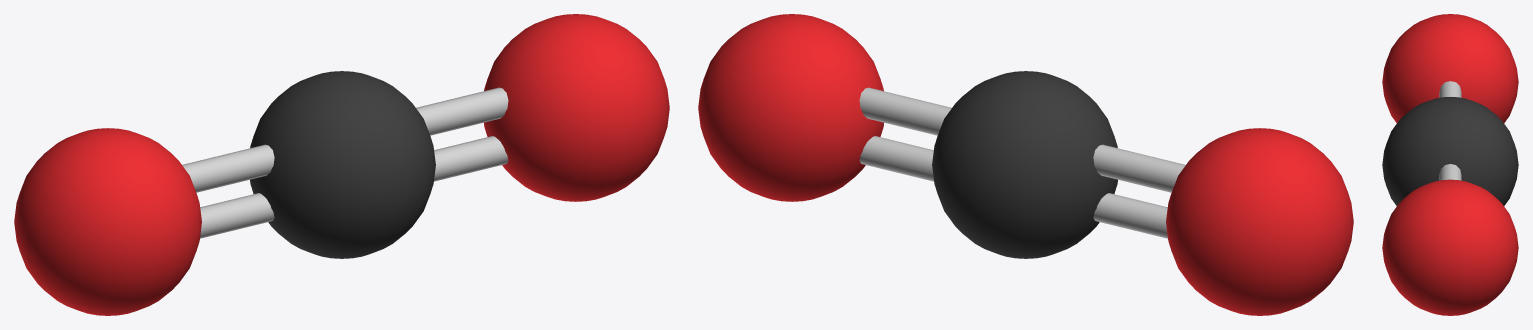
3 views of the same model, side by side, from view 1: azimuth 30°, elevation 25°; view 2: azimuth 150°, elevation 25°; view 3: azimuth 270°, elevation 25° (orthographic). The views are drawn at different scales.
Visible parts, largest first — view 1: CO2; view 2: CO2; view 3: CO2.
Part boxes in pixels (left/top/right/bottom): CO2: left=14, top=14, right=669, bottom=315; CO2: left=698, top=14, right=1353, bottom=315; CO2: left=1382, top=14, right=1518, bottom=315.
Size of the model in its own units: 0.1705 by 0.044 by 0.044.
